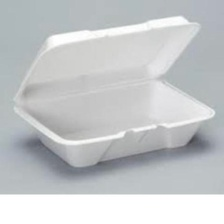foam_box: (8, 10, 221, 172)
